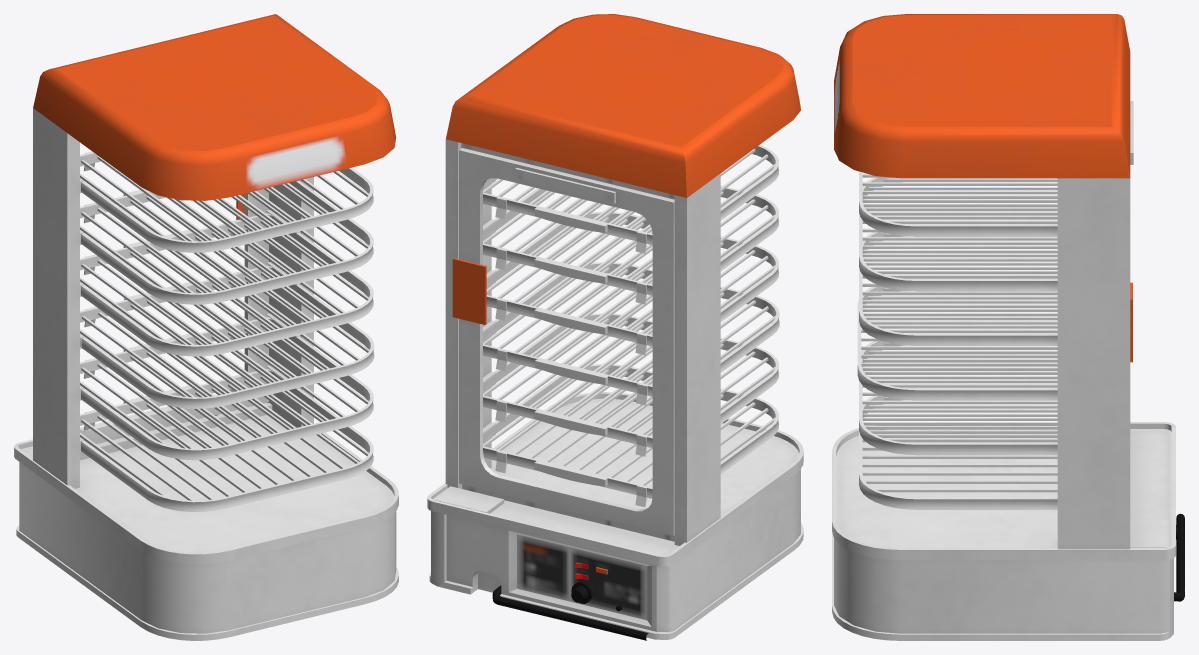
The model's file is LargeDisplaySteamer_3D.gltf.
3 views of the same model, side by side, from view 1: azimuth 30°, elevation 25°; view 2: azimuth 150°, elevation 25°; view 3: azimuth 270°, elevation 25° (orthographic). The views are drawn at different scales.
Visible parts, largest first — view 1: LargeDisplaySteamer_3D; view 2: LargeDisplaySteamer_3D; view 3: LargeDisplaySteamer_3D.
Part boxes in pixels (x1,y1,x2,y2): LargeDisplaySteamer_3D: (14,14,398,640); LargeDisplaySteamer_3D: (427,14,803,640); LargeDisplaySteamer_3D: (832,14,1184,640).
Bounding box in the file's own units: 0.4857 × 0.8954 × 0.5657.
Materials: 1 (1 with a texture image).
